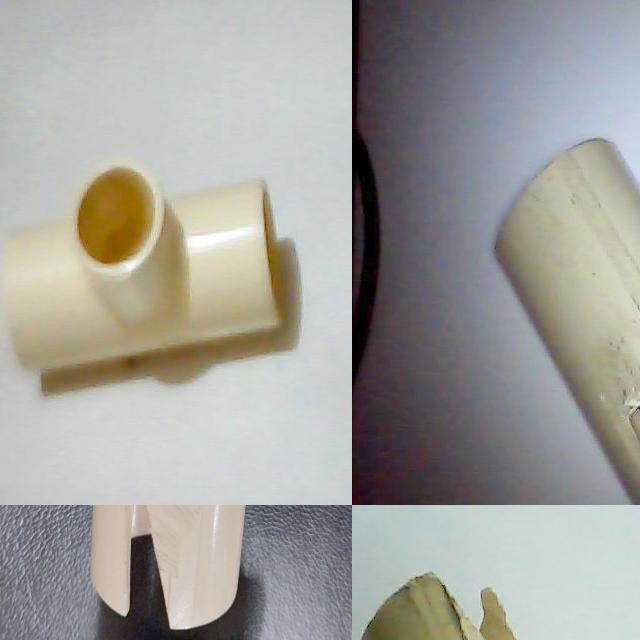Defective: (436, 573, 536, 640)
T Joint: (2, 161, 297, 370), (493, 139, 640, 505), (0, 505, 293, 555), (116, 505, 304, 556)
